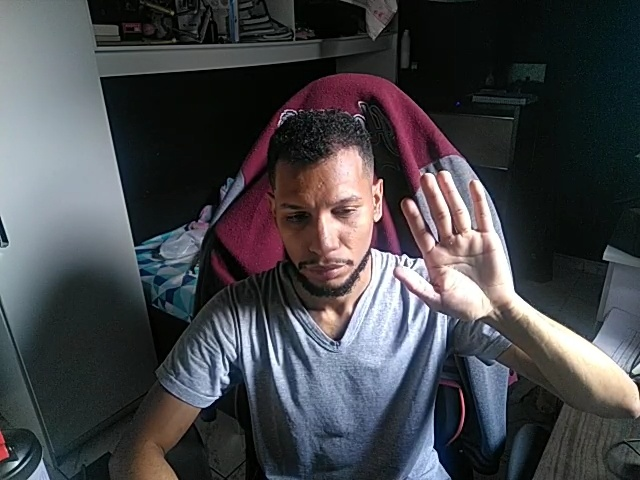oi: (390, 163, 514, 329)
